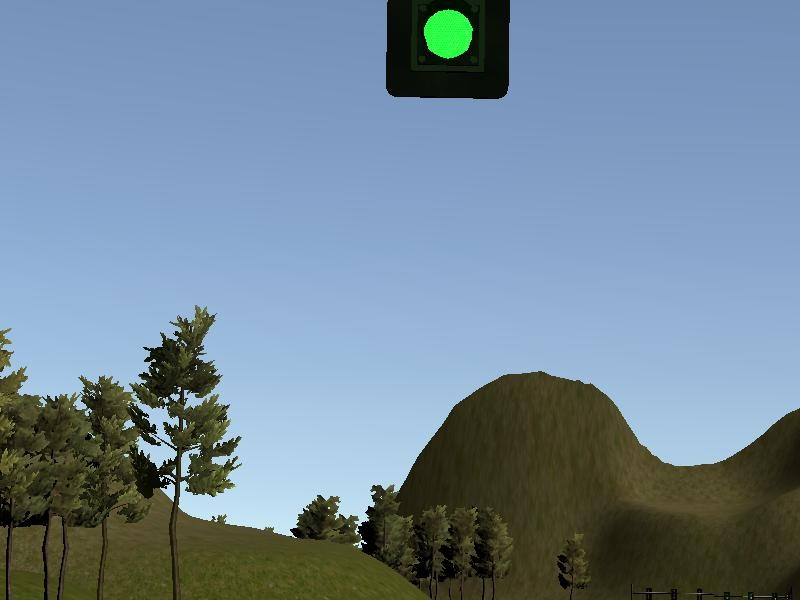traffic_light_green: (1, 1, 800, 105)
